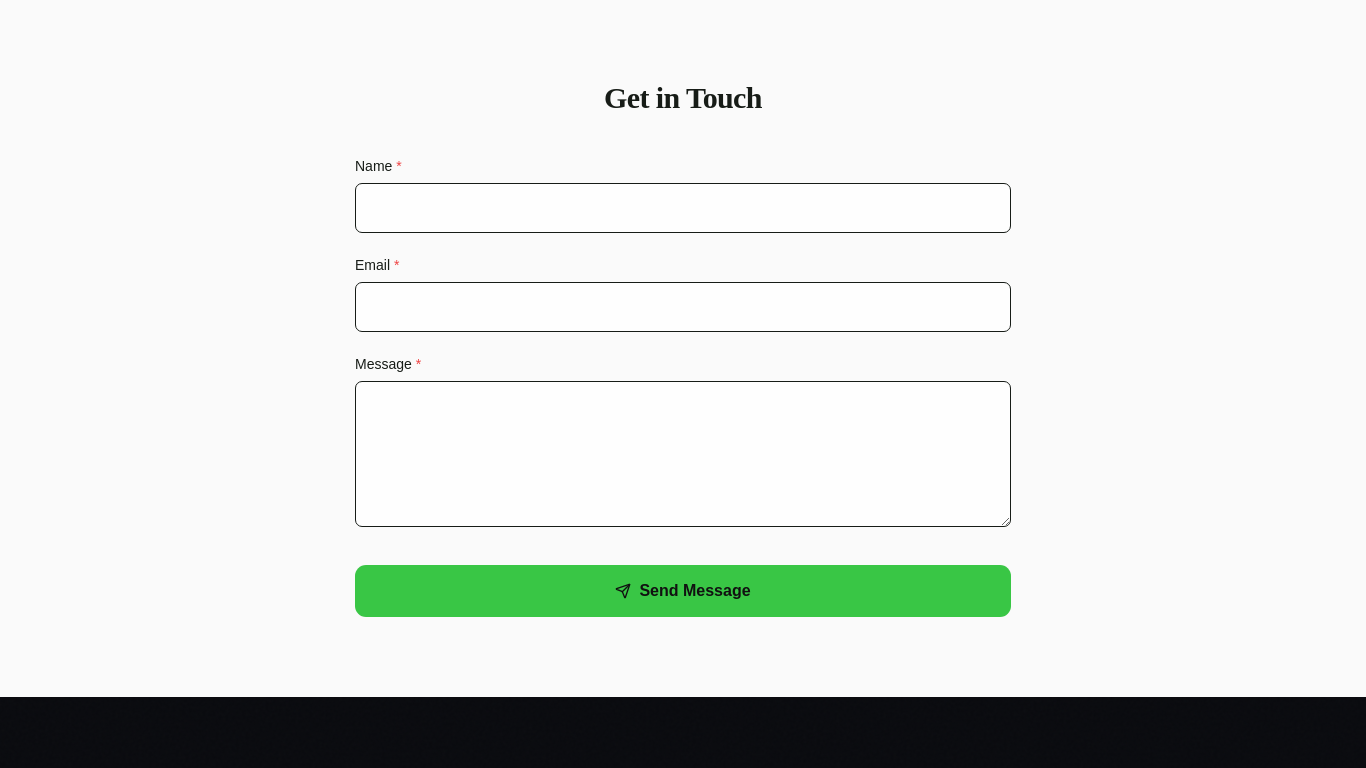
Test: FormContact › shows email format error for an invalid email address
This screenshot has width=1366, height=768.
Type "Alice" into the field labelled "Name*" at (683, 208), box [355, 183, 1011, 233]
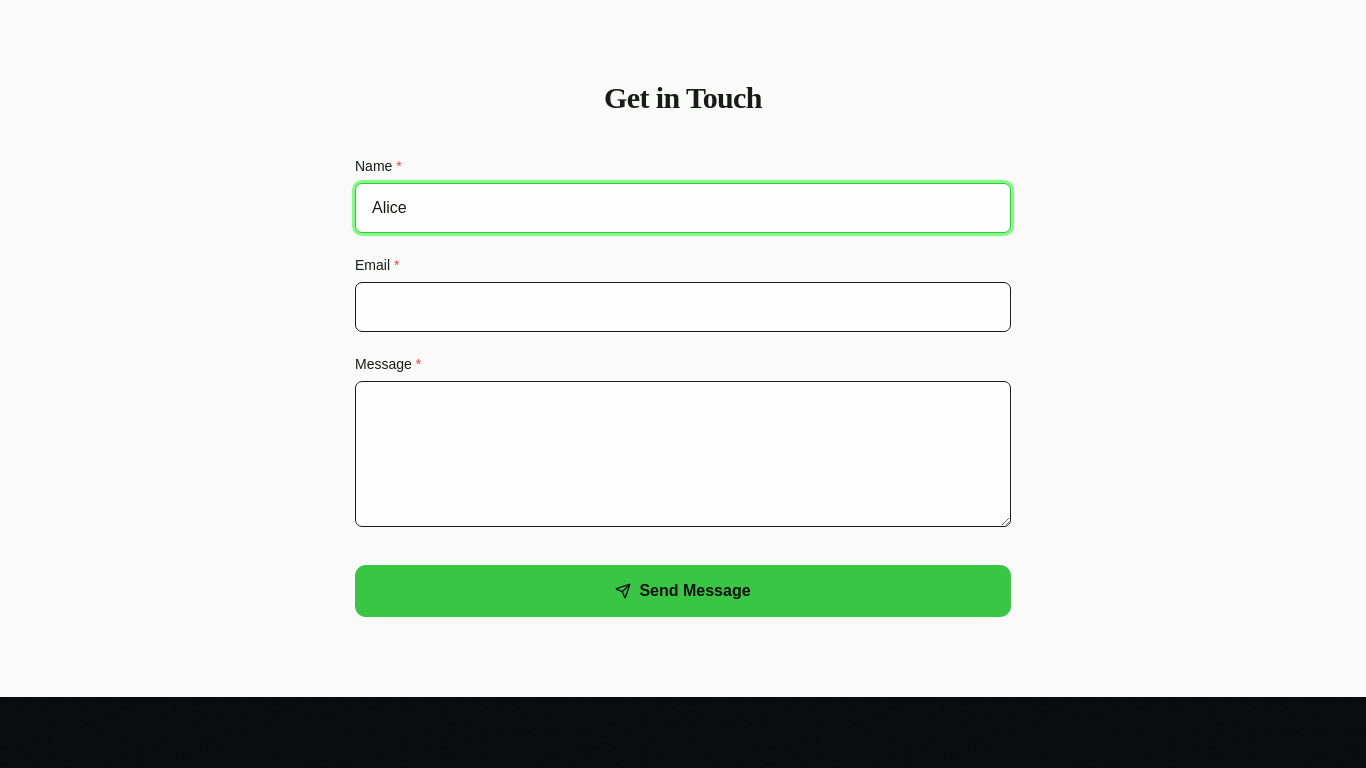
Type "not-an-email" into the field labelled "Email*" at (683, 307), box [355, 282, 1011, 332]
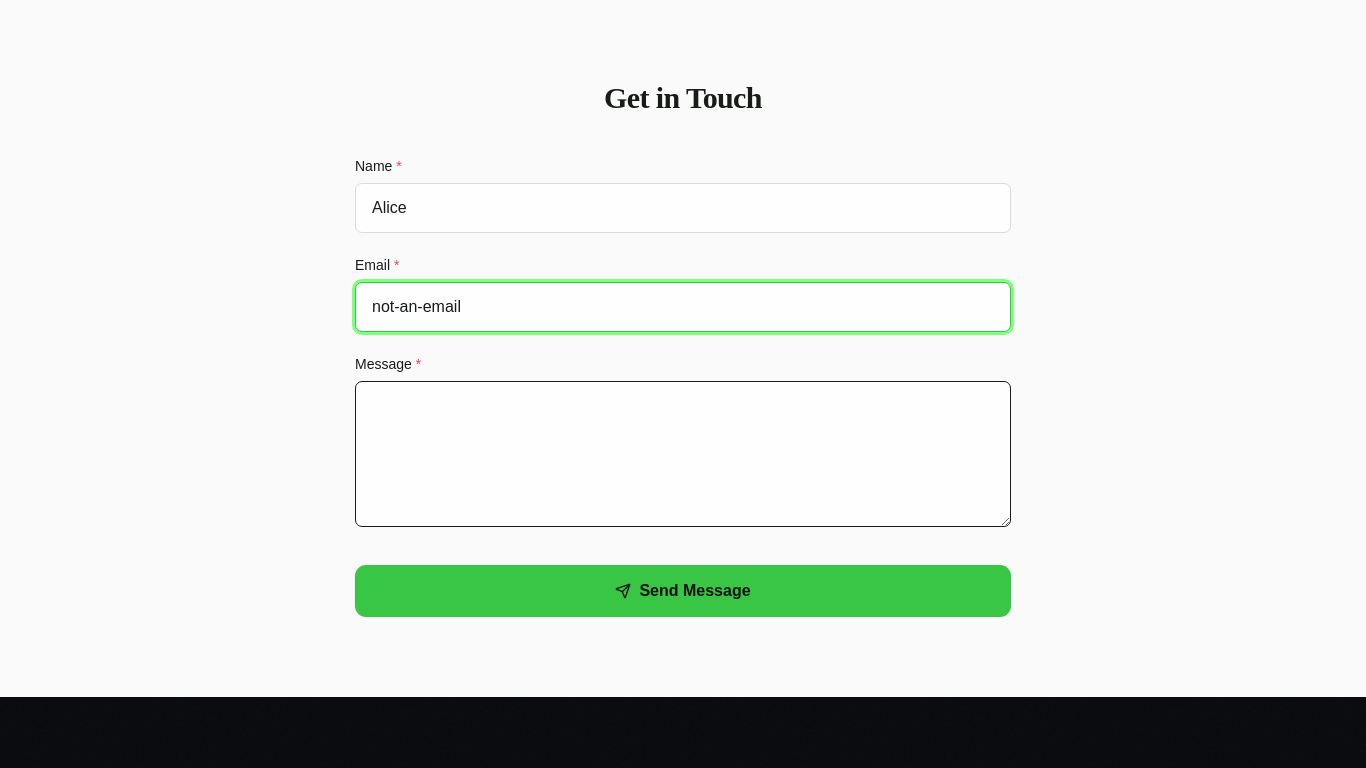
Type "Hello there" into the text box labelled "Message*" at (683, 454), box [355, 381, 1011, 527]
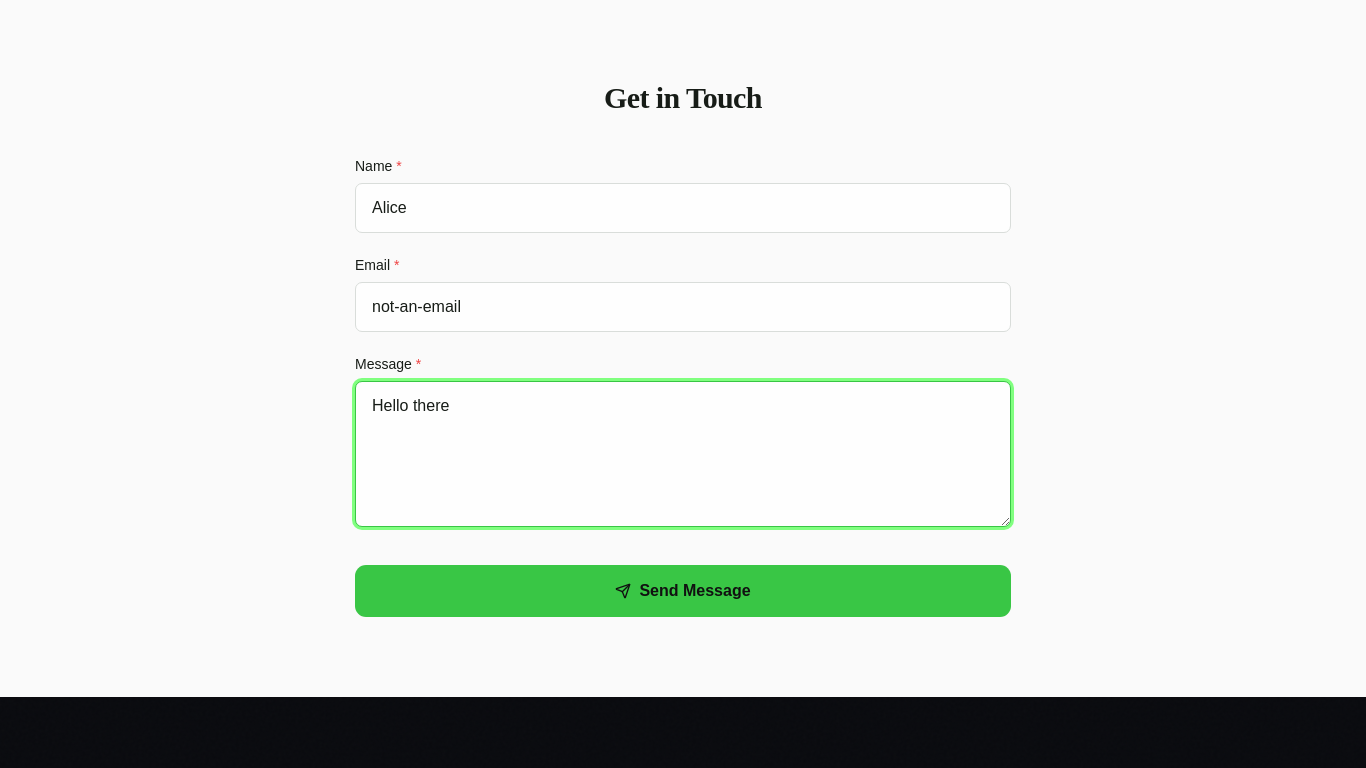
Click the button "Send Message" at (683, 591), box [355, 565, 1011, 617]
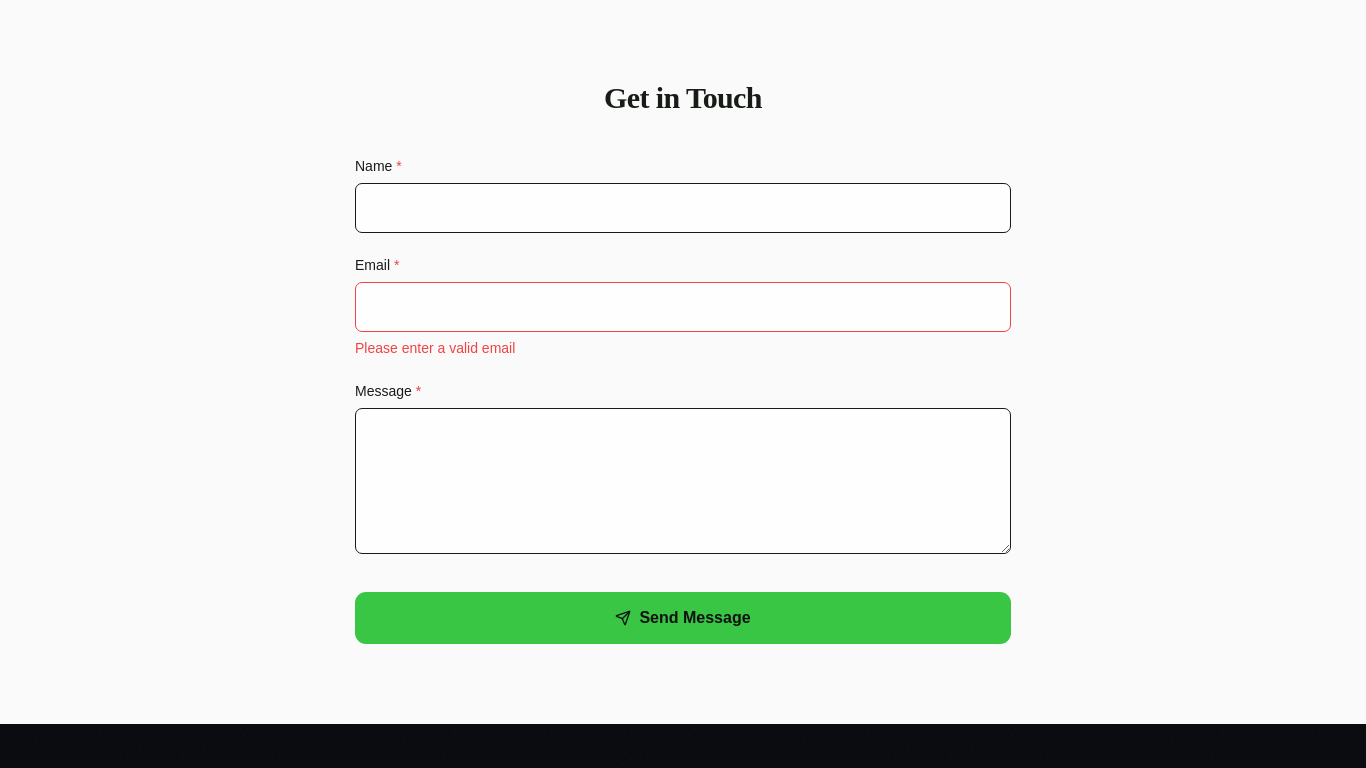
Result: the text "Please enter a valid email" is shown at [355, 340, 515, 356]
